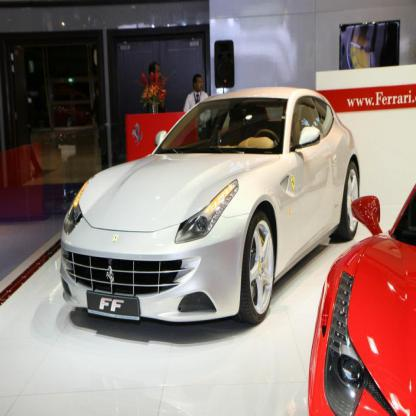Vehicle: (60, 85, 362, 326)
